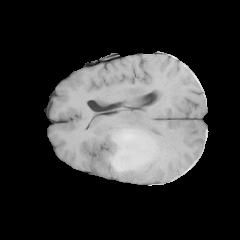glioma: (85, 126, 164, 180)
